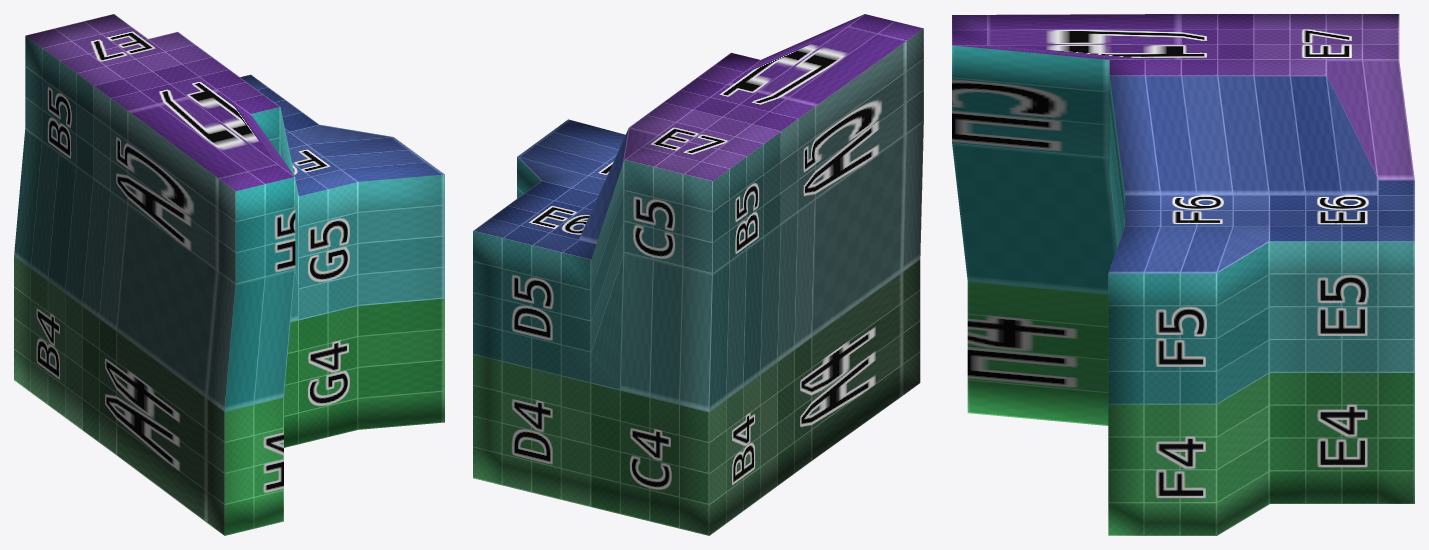
Rendered from building.obj.
3 views of the same model, side by side, from view 1: azimuth 30°, elevation 25°; view 2: azimuth 150°, elevation 25°; view 3: azimuth 270°, elevation 25° (orthographic). The views are drawn at different scales.
Bounding box in the file's own units: 2.42 × 2.86 × 3.19.
1 material, 1 textured.
